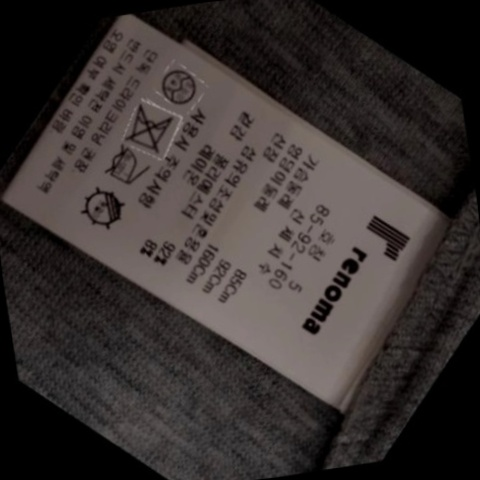DN_wash: (123, 103, 181, 154)
dry_clean_petrol_only: (158, 63, 203, 107)
iron_low: (100, 145, 151, 190)
line_dry_in_shade: (79, 185, 134, 232)
